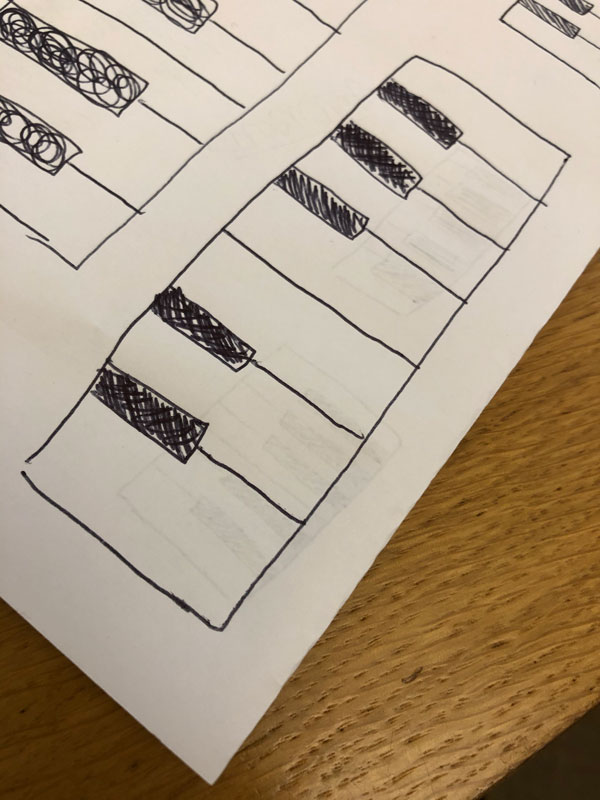piano: (12, 45, 580, 676)
